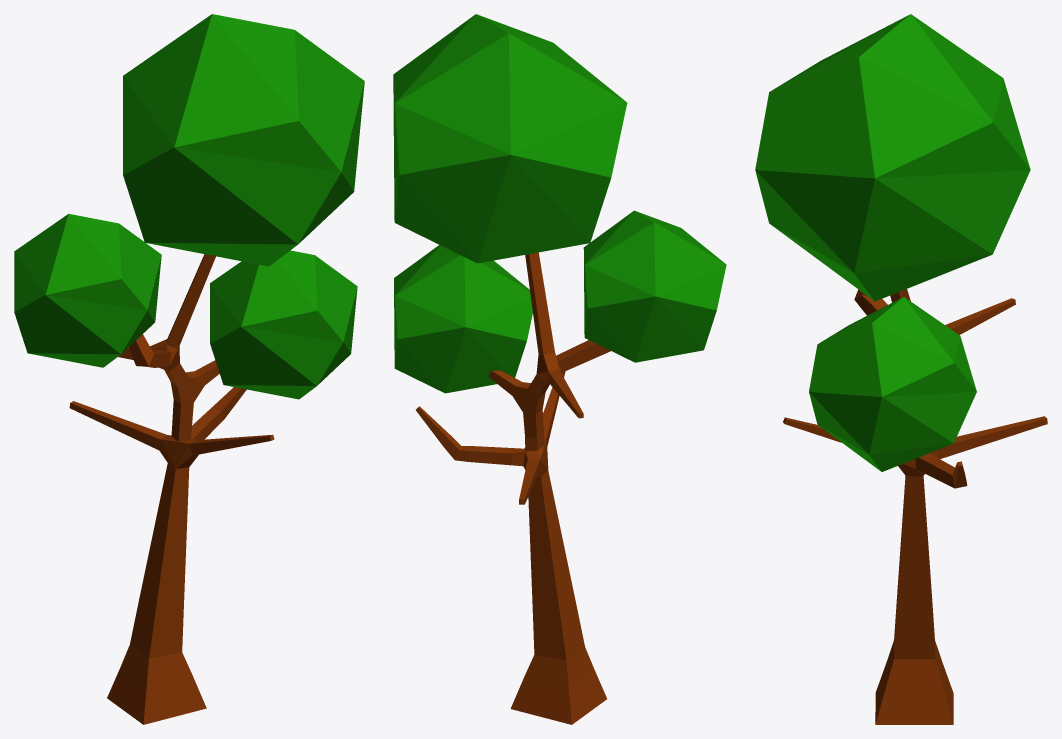
Rendered from treeSharUp.fbx.
3 renders of one model, left to right at view 1: azimuth 30°, elevation 25°; view 2: azimuth 150°, elevation 25°; view 3: azimuth 270°, elevation 25°, orthographic. The views are drawn at different scales.
Visible parts, largest first — view 1: Plane; view 2: Plane; view 3: Plane.
Boxes of the visible parts, left/top/right/bottom form: Plane: left=14, top=14, right=364, bottom=724; Plane: left=393, top=14, right=726, bottom=724; Plane: left=755, top=14, right=1047, bottom=724.
Size of the model in its own units: 184 by 348 by 128.
